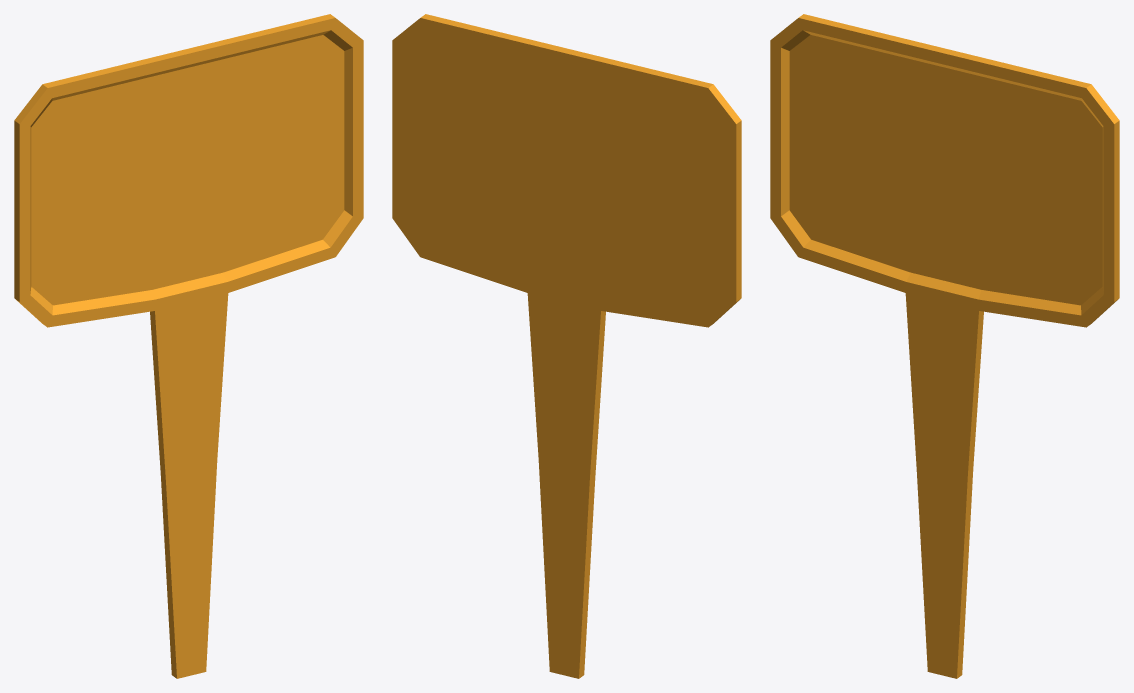
File: SM_Label_Plant_B.fbx
3 views of the same model, side by side, from view 1: azimuth 30°, elevation 25°; view 2: azimuth 150°, elevation 25°; view 3: azimuth 330°, elevation 25° (orthographic).
Parts seen in each view (by area): view 1: label-plant-b; view 2: label-plant-b; view 3: label-plant-b.
Boxes of the visible parts, bbox=[...] form: label-plant-b: bbox=[14, 14, 363, 678]; label-plant-b: bbox=[392, 14, 741, 678]; label-plant-b: bbox=[770, 14, 1119, 678].
Size of the model in its own units: 0.087 by 0.1504 by 0.00232.
